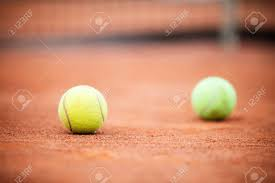tennis_ball: (57, 83, 107, 135), (192, 74, 236, 122)
